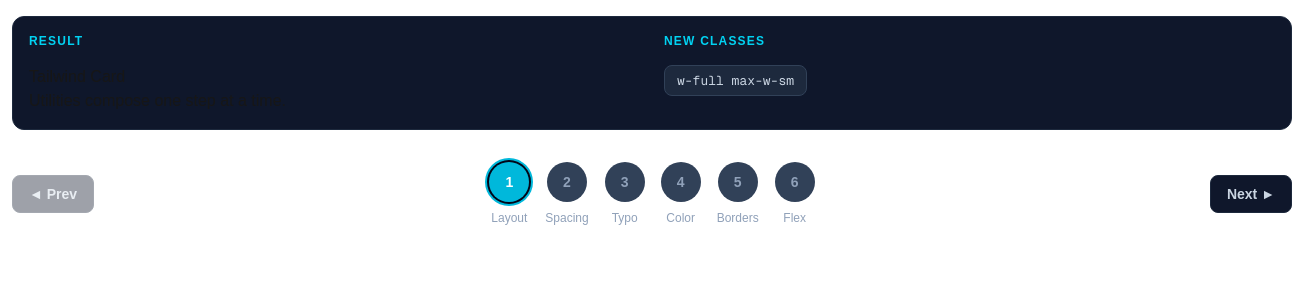
CardBuilder › CodeCallout updates to p-6 at step 1 after clicking Next
Click the button "Next ►".
click(1251, 194)  # box [1210,175,1292,213]
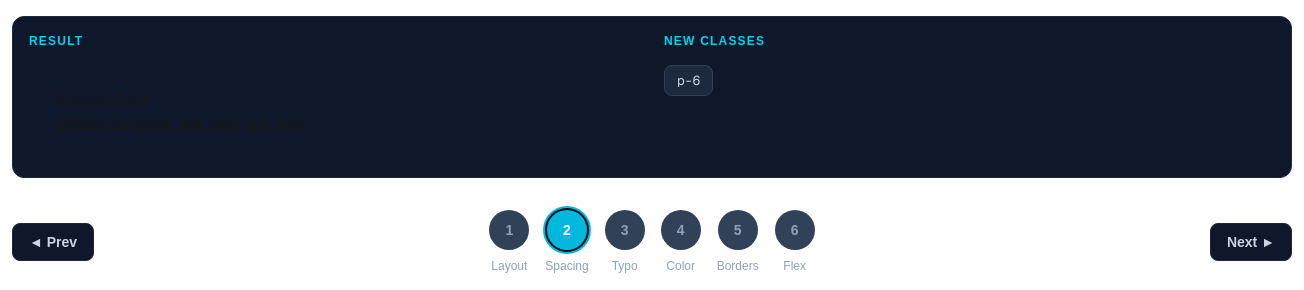
Now the text "p-6" is shown, box [664,65,713,96]
